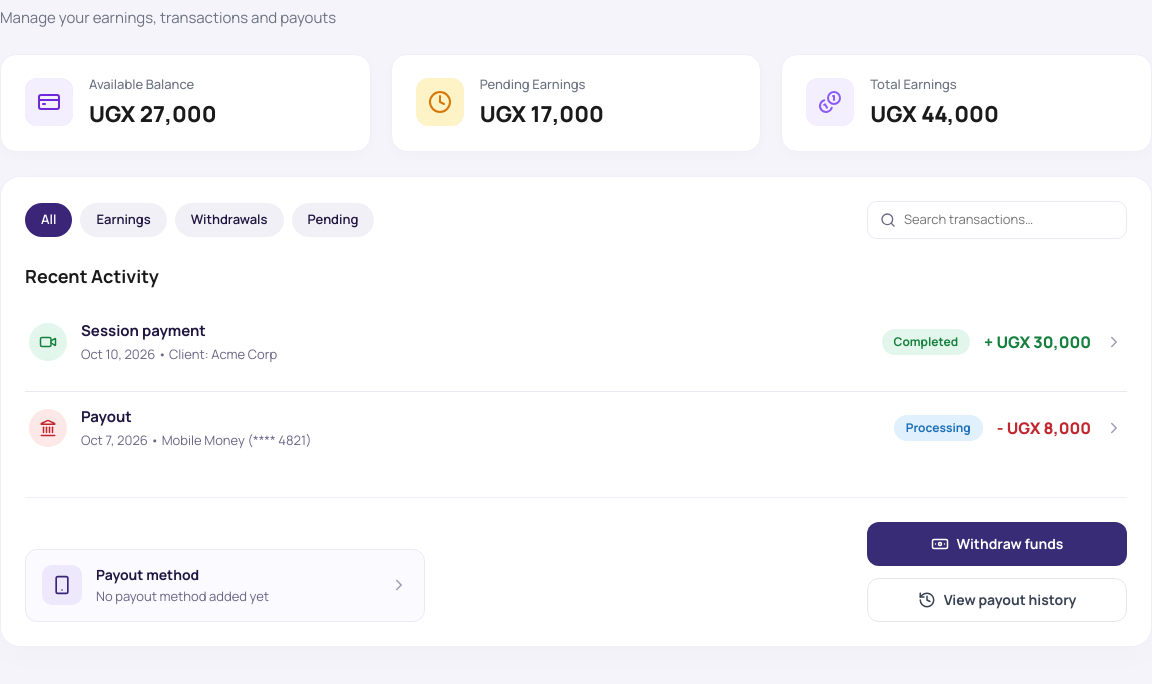
Test case: InterpreterWalletPage › with payments live › opens the withdrawal form and asks for a payout
Click the button "Withdraw funds".
click(997, 544)  # box [867,522,1127,566]
(page scrolled)
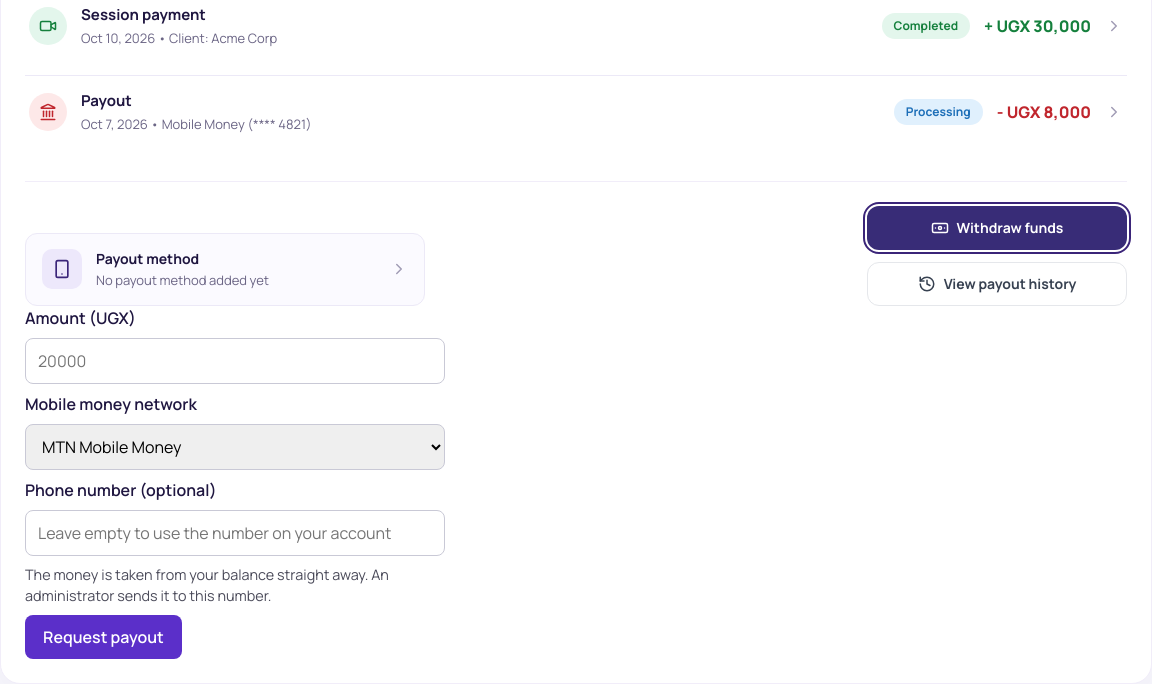
Type "8000" into the field labelled "Amount (UGX)".
click(235, 360); type("8000")  # box [25,338,445,384]
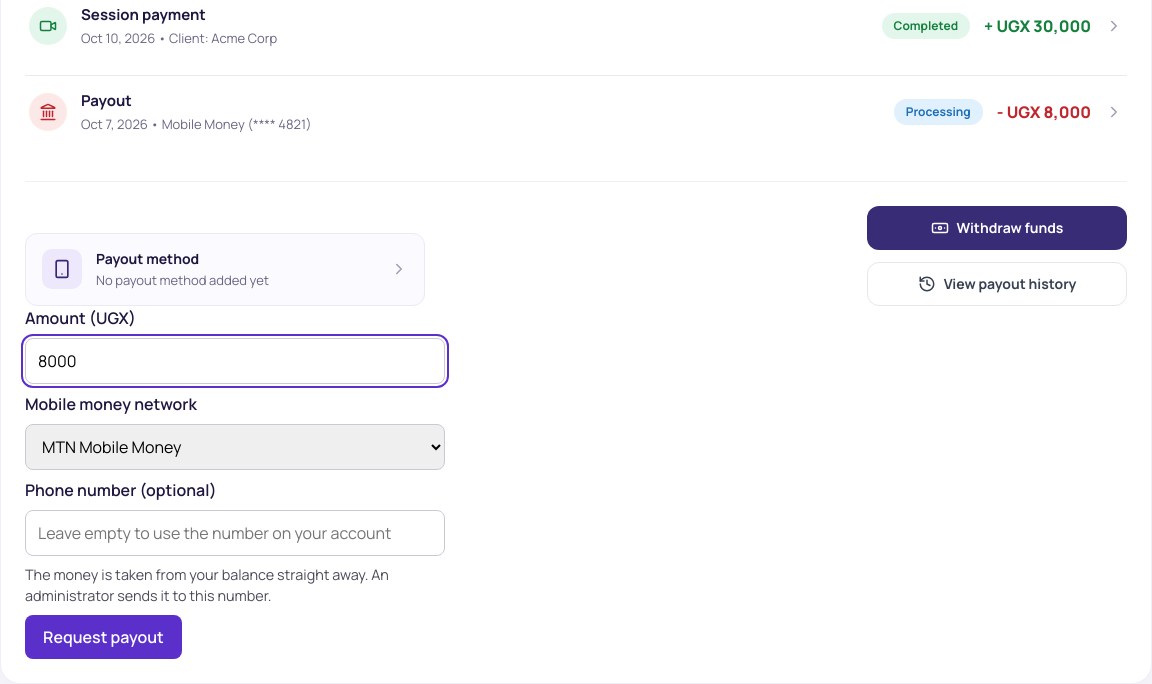
Select "Airtel Money" in the dropdown labelled "Mobile money network" at (235, 446), box [25,424,445,470]
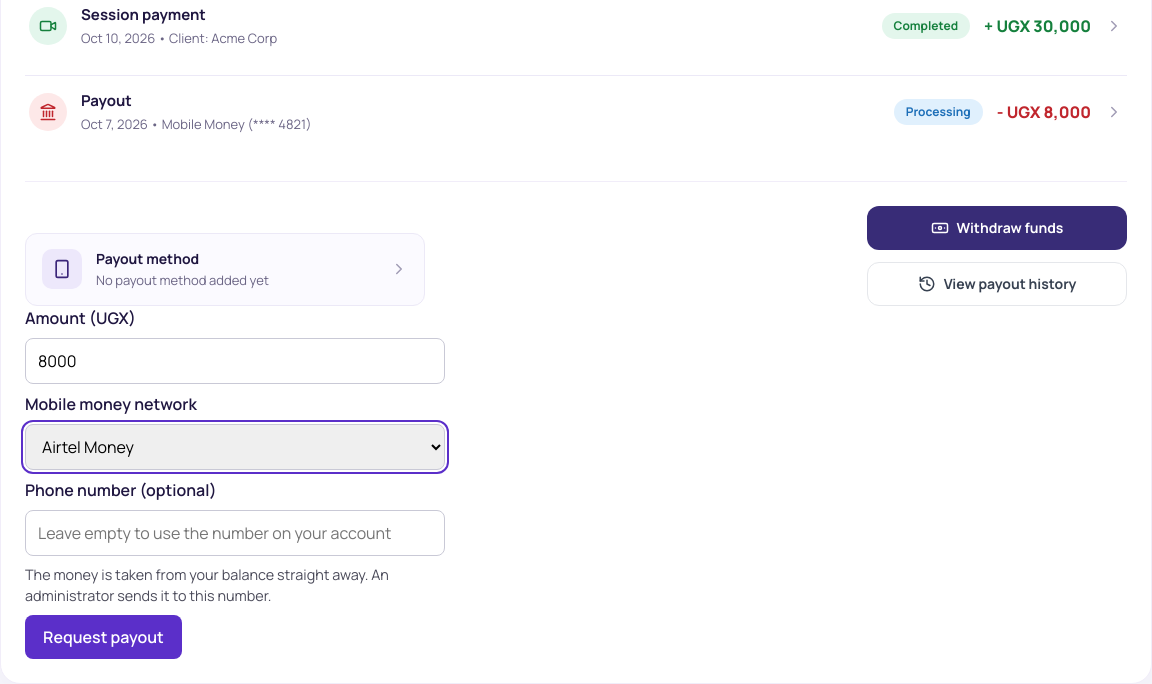
Click the button "Request payout".
click(103, 637)  # box [25,615,182,659]
(page scrolled)
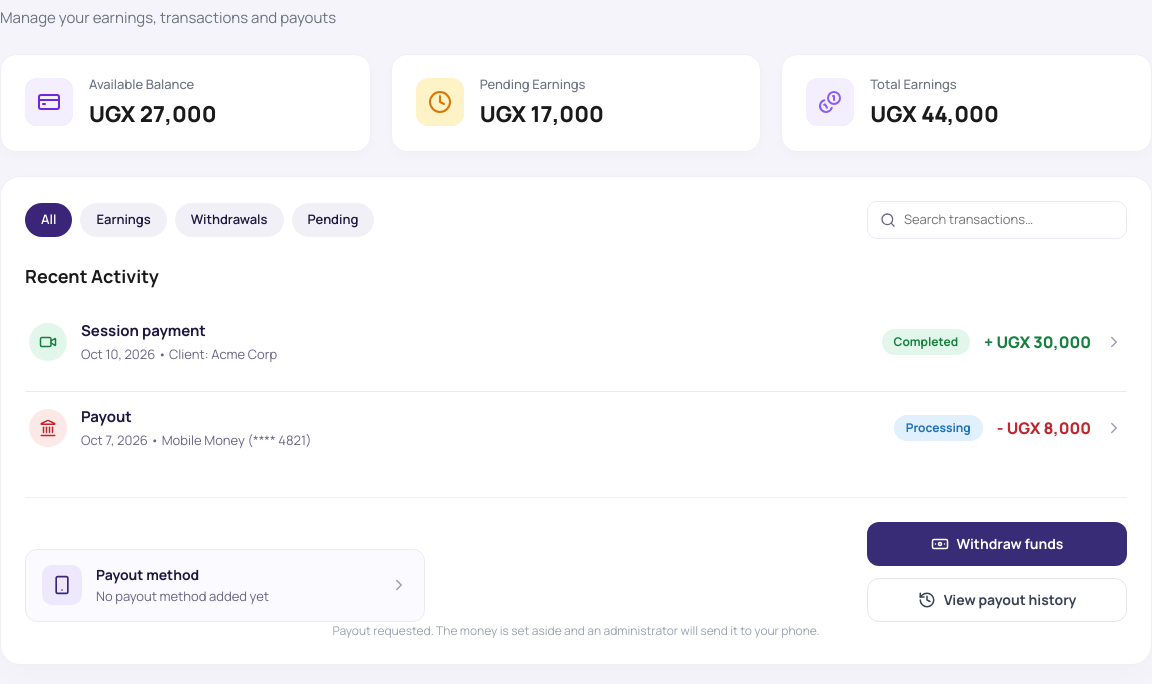
Expected: the text "Payout requested" is shown, [332,622,820,638]
Expected: the label labelled "Amount (UGX)" is gone
